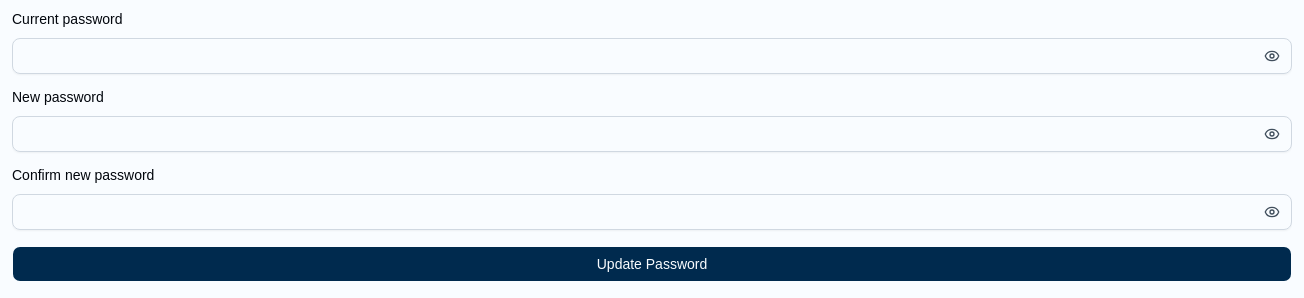
Test case: ChangePasswordForm visibility controls › toggles password field visibility without changing value (CP-010)
Type "MySecret" into the password field labelled "Current password" at (652, 56), box [12,38,1292,74]
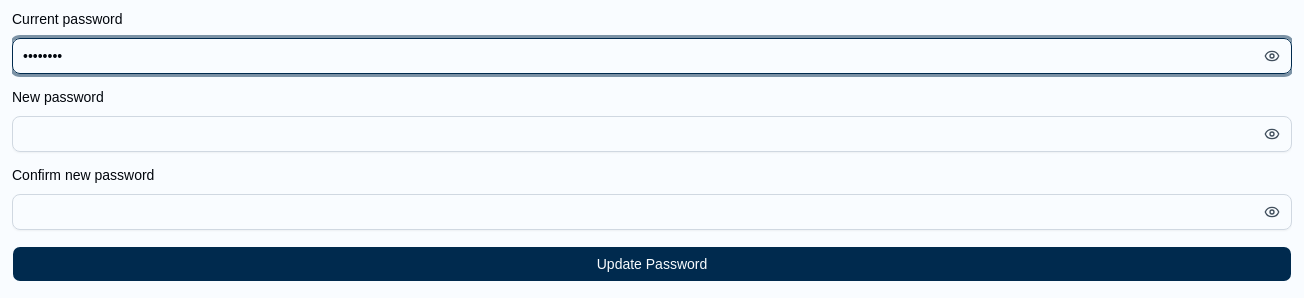
Click the button named "show current password" at (1272, 56), box [1264,48,1280,64]
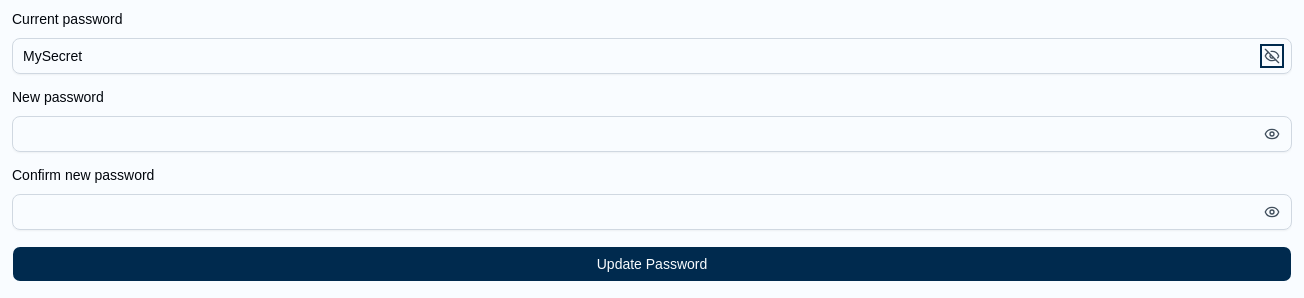
Now the field labelled "Current password" shows its text, box [12,38,1292,74]
